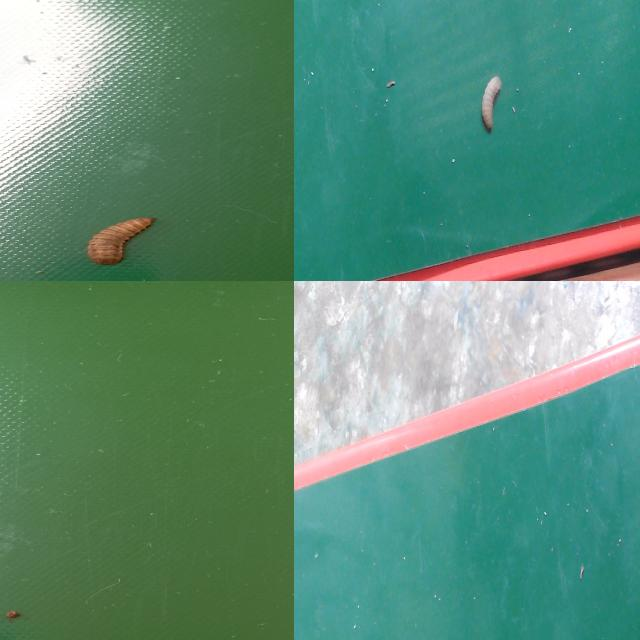Maggot: (94, 220, 149, 261), (479, 76, 503, 134)
